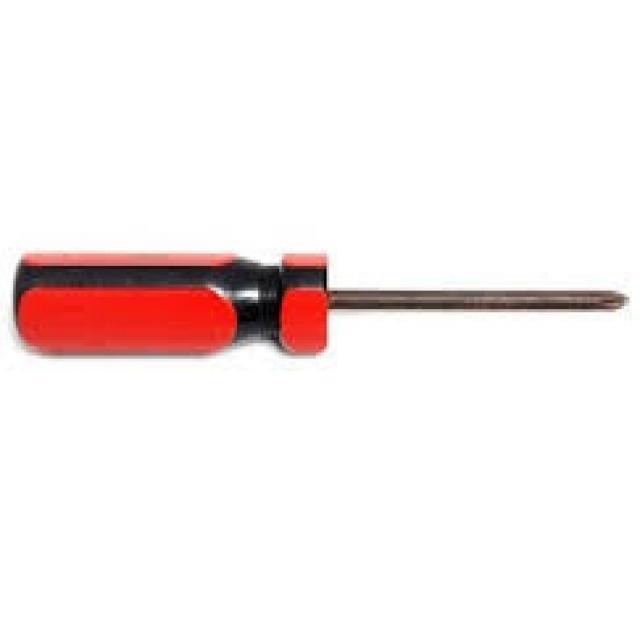screwdriver: (6, 233, 628, 362)
